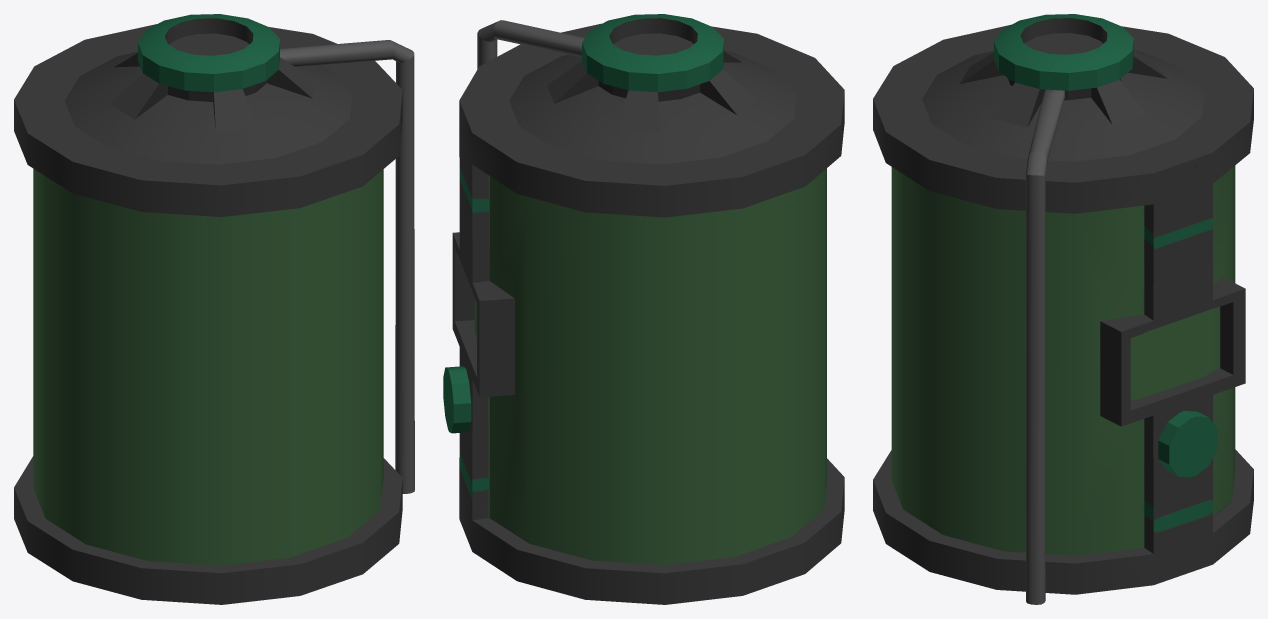
The model's file is geo_tank.fbx.
3 views of the same model, side by side, from view 1: azimuth 30°, elevation 25°; view 2: azimuth 150°, elevation 25°; view 3: azimuth 270°, elevation 25° (orthographic).
Visible parts, largest first — view 1: tank; view 2: tank; view 3: tank.
Boxes of the visible parts, x1,y1,x2,y2 form: tank: [14, 14, 414, 604]; tank: [443, 14, 844, 604]; tank: [873, 14, 1253, 604].
Bounding box in the file's own units: 190 × 247 × 179.
